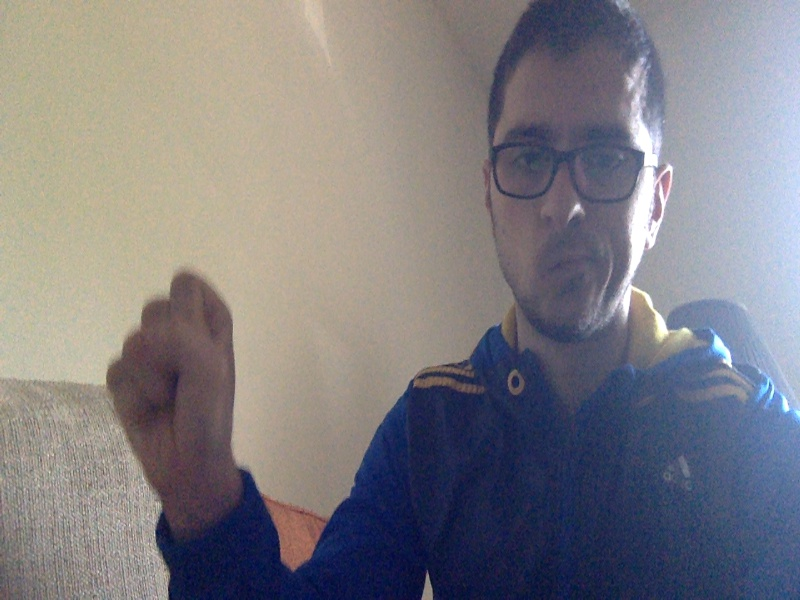0-hand: (108, 270, 238, 493)
